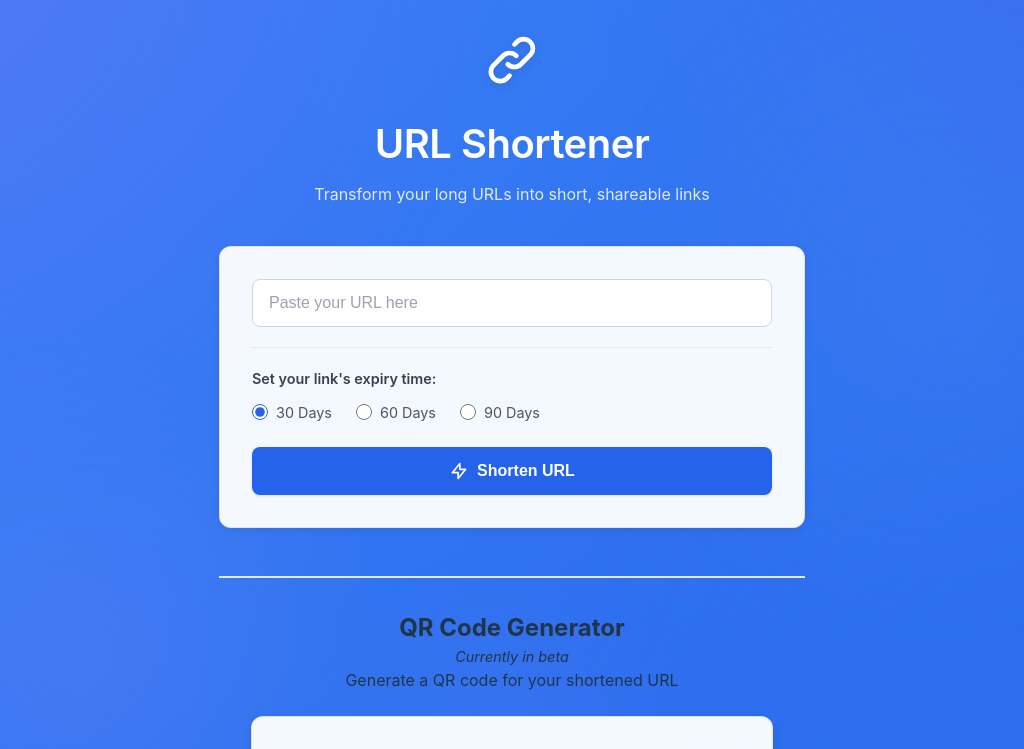
Test case: App Component › Successful URL Shortening › should show copy to clipboard button on success
The width and height of the screenshot is (1024, 749).
Type "https://example.com" into the field with placeholder "Paste your URL here". click: (512,303)
box: [252,279,772,327]
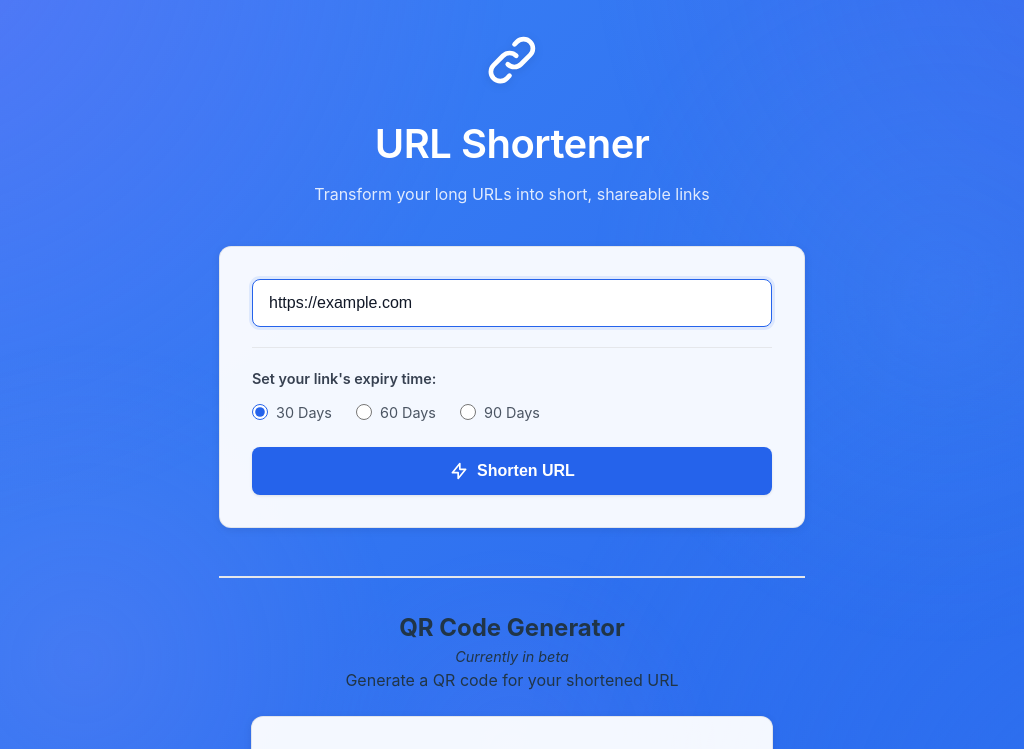
Click the button "Shorten URL". click: (512,471)
box: [252,447,772,495]
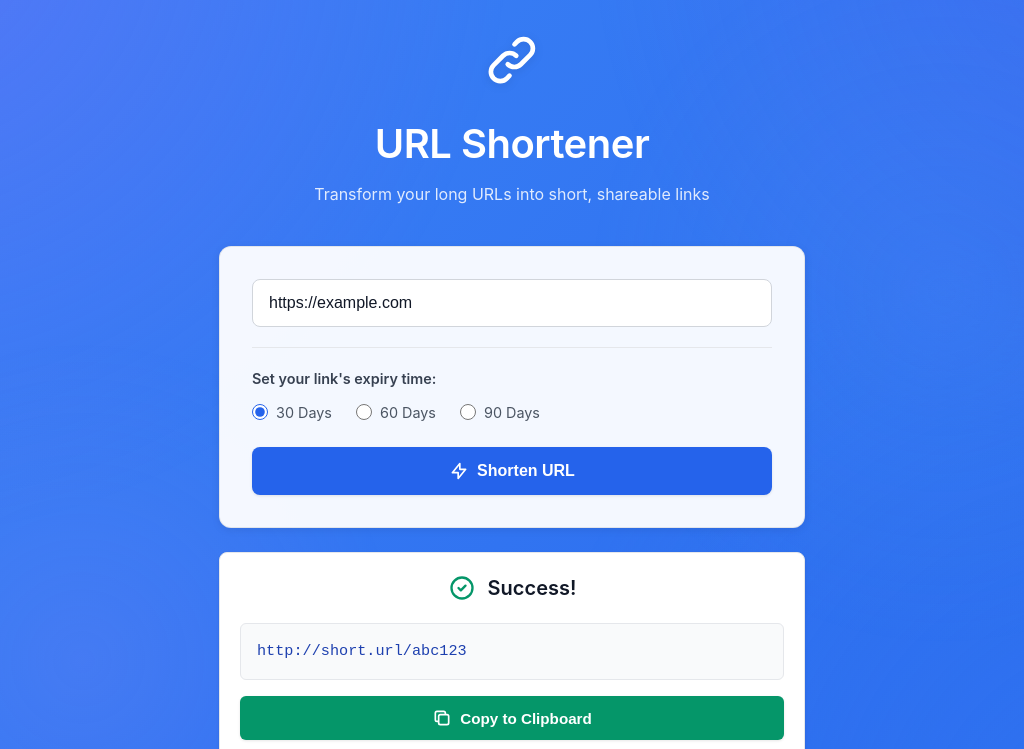
Check: the button "Copy to Clipboard" is shown, box [240,696,784,740]
